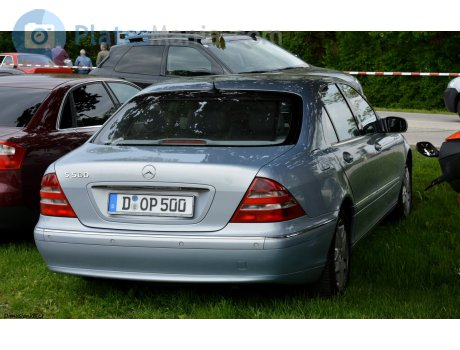License Plates: (119, 194, 189, 210)
